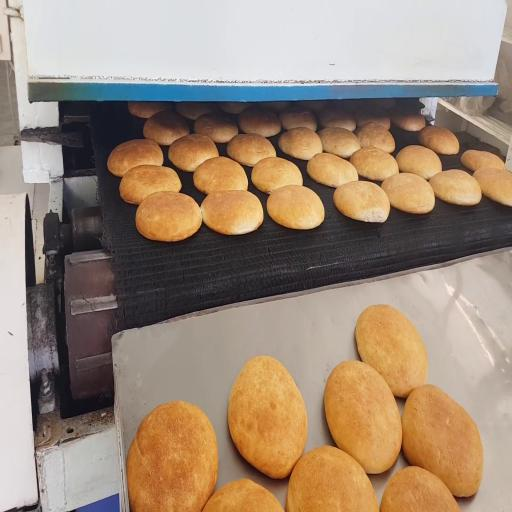bread: (126, 402, 218, 511), (228, 356, 307, 478), (402, 385, 483, 496), (324, 361, 402, 473), (355, 305, 427, 397), (286, 446, 378, 511), (381, 467, 460, 511), (136, 192, 202, 241), (201, 190, 263, 235), (203, 479, 283, 511), (267, 185, 324, 229), (120, 165, 181, 204), (334, 182, 390, 222), (382, 173, 435, 214), (108, 139, 163, 177), (194, 157, 248, 194), (251, 157, 302, 193), (169, 134, 218, 171), (430, 170, 481, 205), (307, 153, 358, 187), (350, 147, 398, 181), (143, 111, 189, 146), (227, 134, 276, 166), (396, 146, 442, 179), (473, 168, 511, 206), (278, 128, 322, 160), (194, 113, 238, 143), (239, 107, 281, 137), (355, 122, 395, 153), (319, 128, 360, 158), (419, 126, 459, 155), (461, 150, 506, 171), (318, 106, 355, 131), (279, 107, 317, 131), (355, 106, 390, 129), (390, 110, 425, 131), (128, 102, 173, 118), (176, 102, 215, 120), (219, 102, 252, 114), (296, 101, 330, 112), (258, 101, 290, 112), (372, 99, 396, 109)
